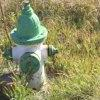a fire hydrant: (6, 2, 54, 87)
